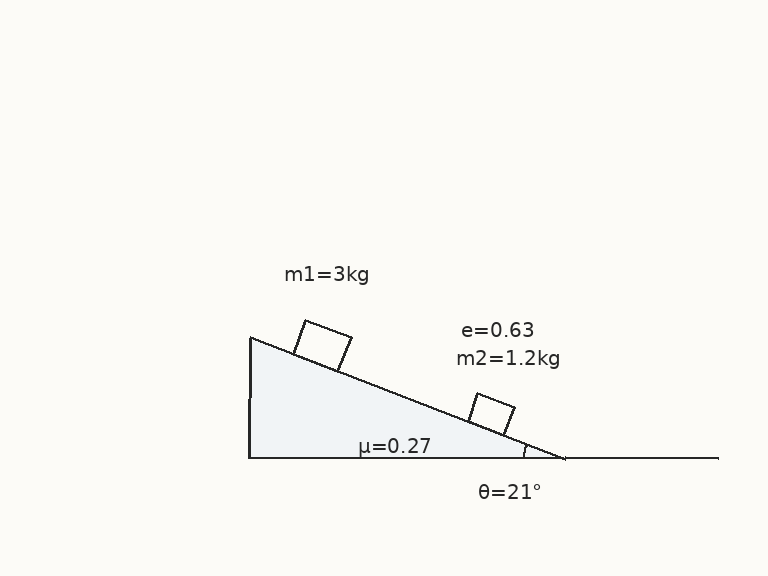block: (290, 318, 353, 373), (465, 392, 516, 437)
ramp: (247, 335, 566, 460)
